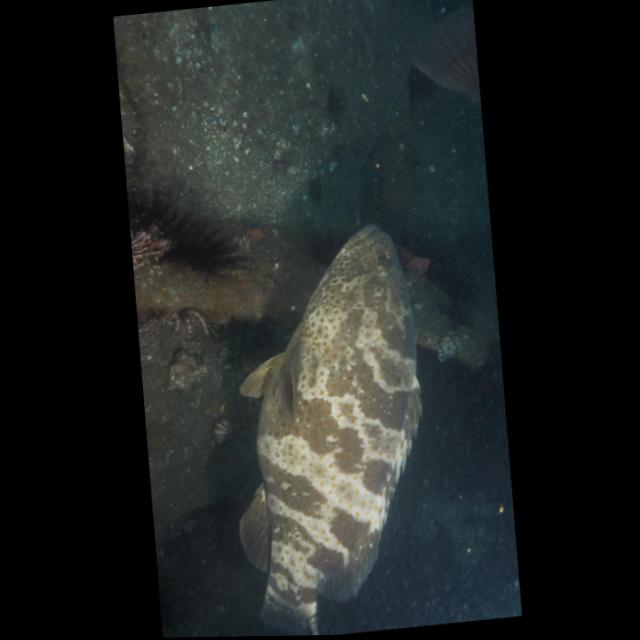Groupers: (212, 219, 445, 637)
